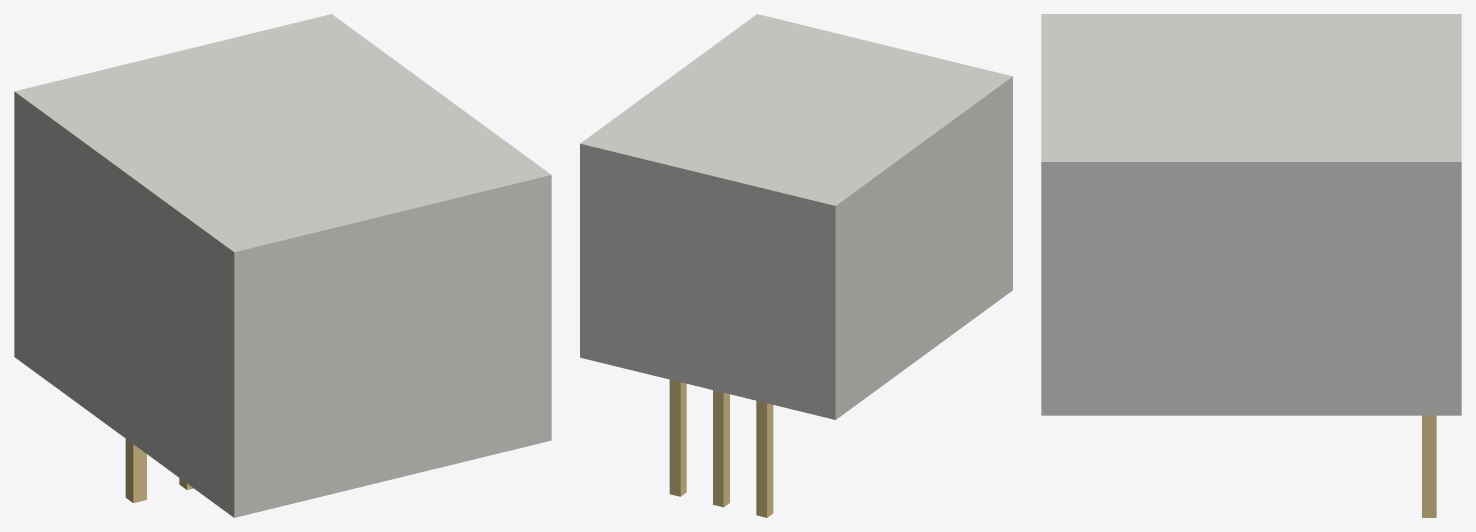
The model's file is dht22.glb.
3 views of the same model, side by side, from view 1: azimuth 30°, elevation 25°; view 2: azimuth 150°, elevation 25°; view 3: azimuth 270°, elevation 25° (orthographic). The views are drawn at different scales.
Parts seen in each view (by area): view 1: sensor-case, pins; view 2: sensor-case, pins; view 3: sensor-case, pins.
Part boxes in pixels (box(x1,y1,x2,y2)): sensor-case: box(14, 14, 551, 517); pins: box(125, 439, 193, 503); sensor-case: box(580, 14, 1012, 419); pins: box(669, 379, 773, 517); sensor-case: box(1041, 14, 1461, 415); pins: box(1422, 415, 1436, 517).
Size of the model in its own units: 0.015 by 0.019 by 0.018.
